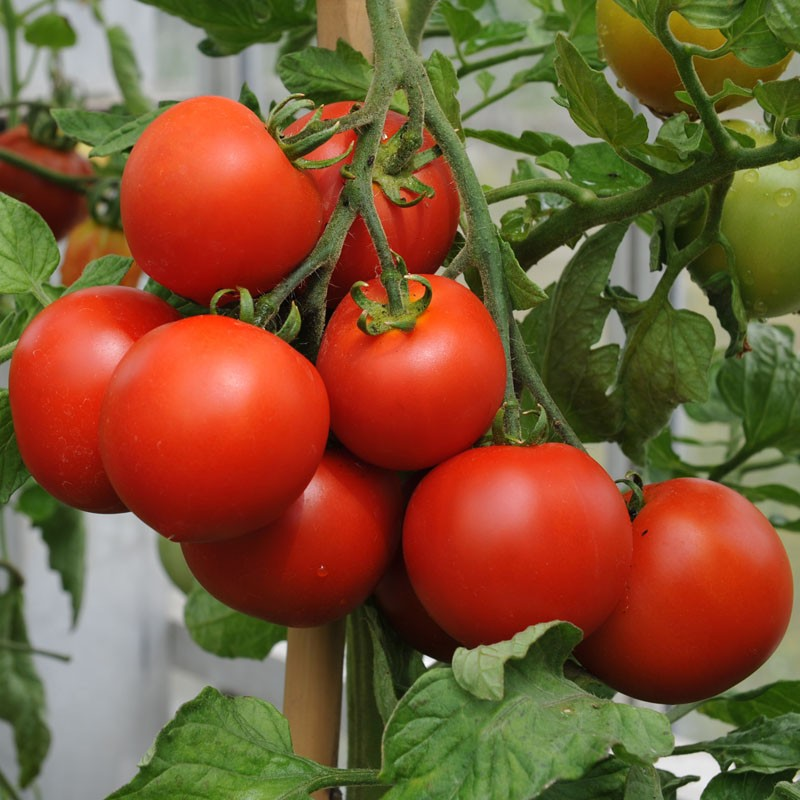stems: (526, 365, 635, 517), (360, 194, 406, 313), (244, 255, 324, 323), (274, 108, 372, 159), (491, 316, 526, 449)
tomato: (96, 315, 332, 542), (568, 477, 794, 704), (401, 445, 636, 650), (119, 93, 326, 307), (180, 443, 406, 628), (10, 286, 184, 517), (314, 274, 507, 473), (277, 101, 463, 294)
